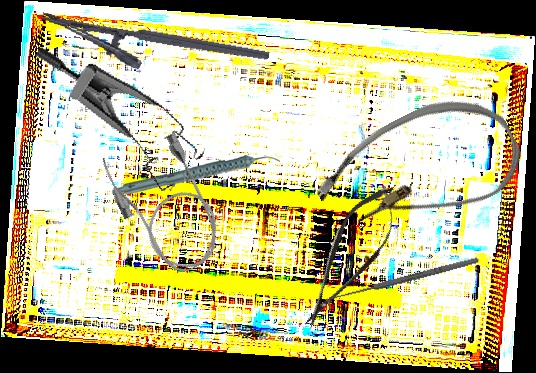Cannula: (304, 76, 533, 266), (95, 124, 234, 286)
Handpiece: (111, 152, 281, 200)
Hook Surgical: (323, 254, 483, 311)
Micro Scissor: (286, 173, 414, 341)
Needle Holder: (35, 10, 270, 92)
Speculum: (7, 43, 220, 201)
